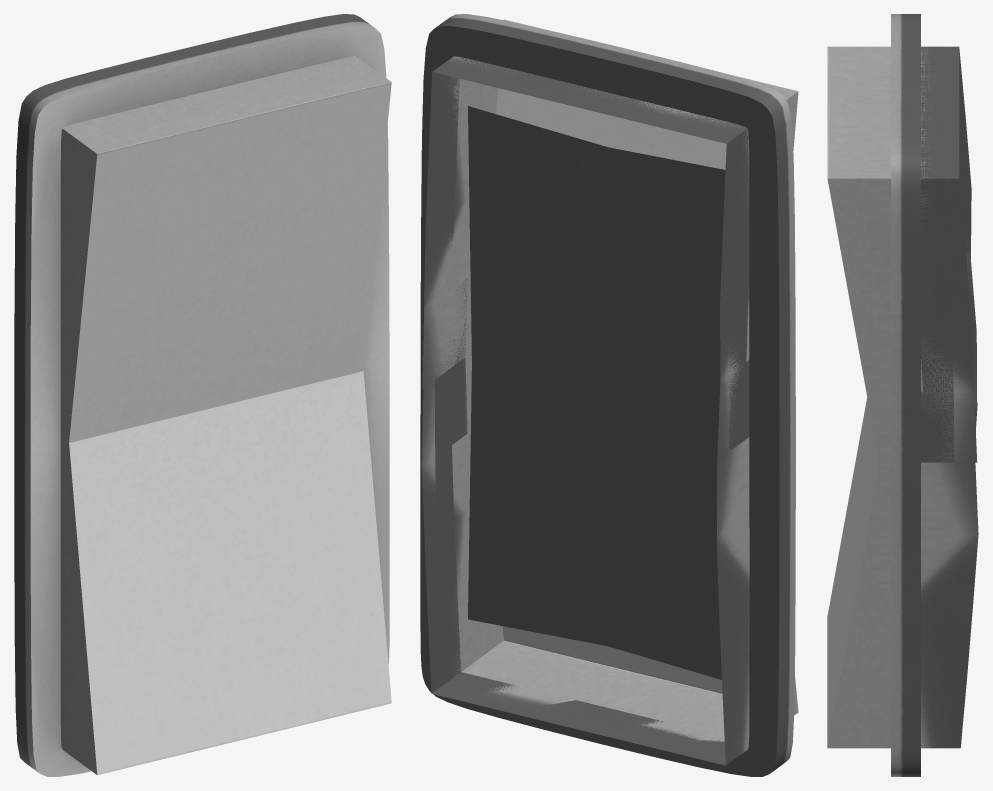
The model's file is Switch.FBX.
3 views of the same model, side by side, from view 1: azimuth 30°, elevation 25°; view 2: azimuth 150°, elevation 25°; view 3: azimuth 270°, elevation 25° (orthographic). The views are drawn at different scales.
Parts seen in each view (by area): view 1: OFF, ON, 10121_Light_Switch_v1; view 2: 10121_Light_Switch_v1, OFF, ON; view 3: 10121_Light_Switch_v1, ON, OFF.
Boxes of the visible parts, bbox=[...] form: OFF: bbox=[60, 371, 391, 774]; ON: bbox=[60, 56, 391, 442]; 10121_Light_Switch_v1: bbox=[14, 14, 389, 776]; 10121_Light_Switch_v1: bbox=[420, 14, 795, 776]; OFF: bbox=[421, 353, 798, 765]; ON: bbox=[422, 19, 798, 460]; 10121_Light_Switch_v1: bbox=[891, 14, 954, 776]; ON: bbox=[827, 46, 977, 462]; OFF: bbox=[827, 331, 978, 748].
Bounding box in the file's own units: 2.41 × 4.4 × 0.9583.
